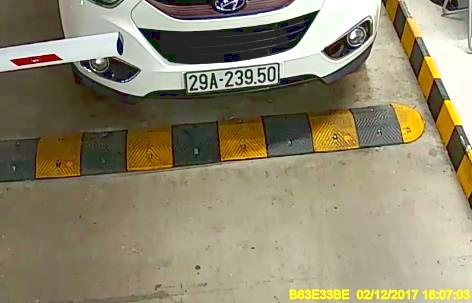plate: (181, 62, 281, 95)
